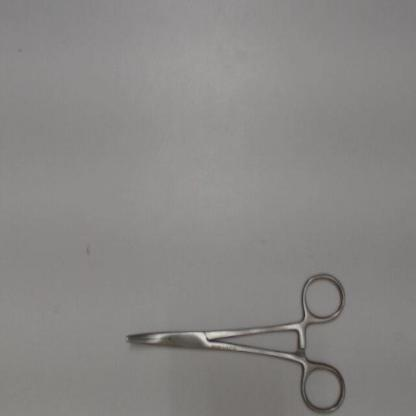Crile Artery Forceps: (118, 266, 346, 415)
